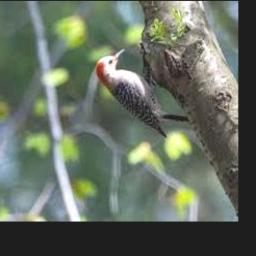Woodpecker: (97, 47, 190, 137)
